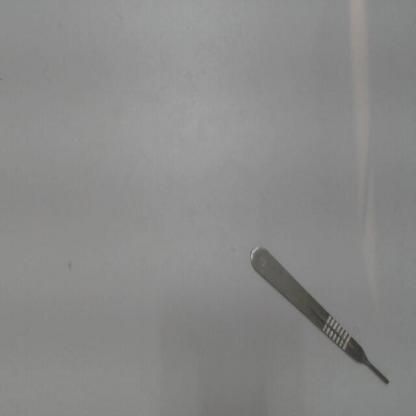No.3 BP Handle: (239, 230, 401, 404)
